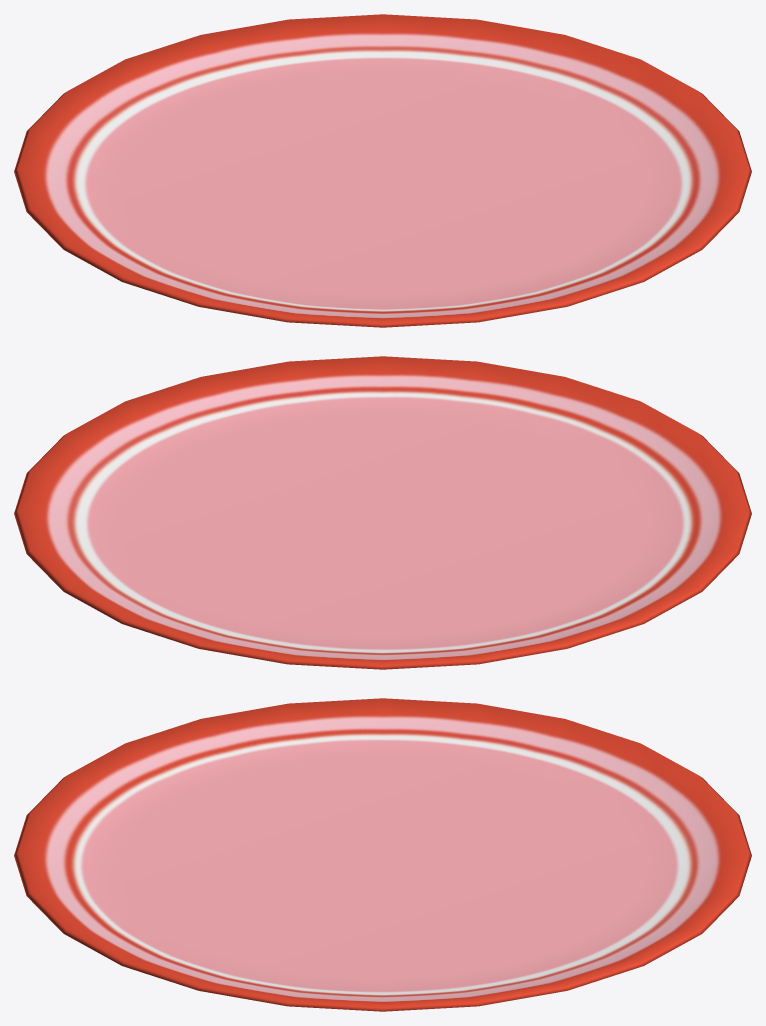
File: plate_2.fbx
The picture shows the model from 3 angles, top to bottom: view 1: azimuth 30°, elevation 25°; view 2: azimuth 150°, elevation 25°; view 3: azimuth 270°, elevation 25°; orthographic projection.
Visible parts, largest first — view 1: cake_&_cherry.006; view 2: cake_&_cherry.006; view 3: cake_&_cherry.006.
Boxes of the visible parts, box(x1,y1,x2,y2) form: cake_&_cherry.006: box(14, 14, 751, 327); cake_&_cherry.006: box(14, 356, 751, 669); cake_&_cherry.006: box(14, 698, 751, 1011).
Size of the model in its own units: 46.05 by 1.52 by 46.05.
